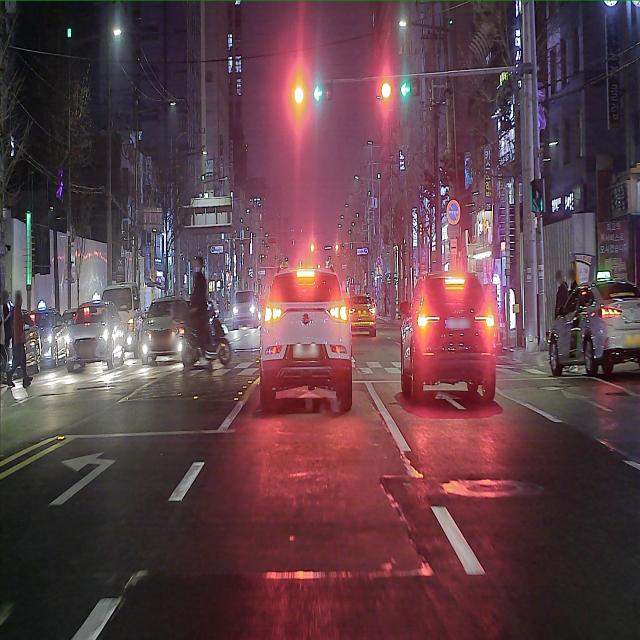Red Light: (293, 85, 304, 105), (381, 82, 391, 100)
